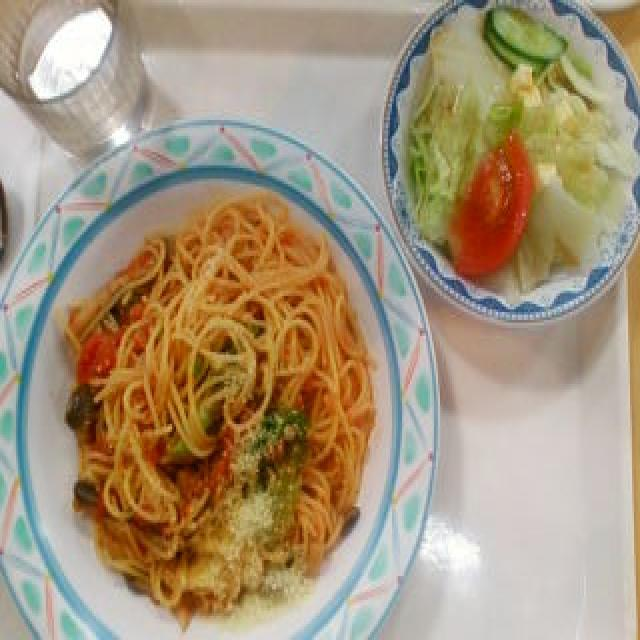Green Salad: (408, 3, 628, 289)
Pasta: (59, 179, 381, 614)
